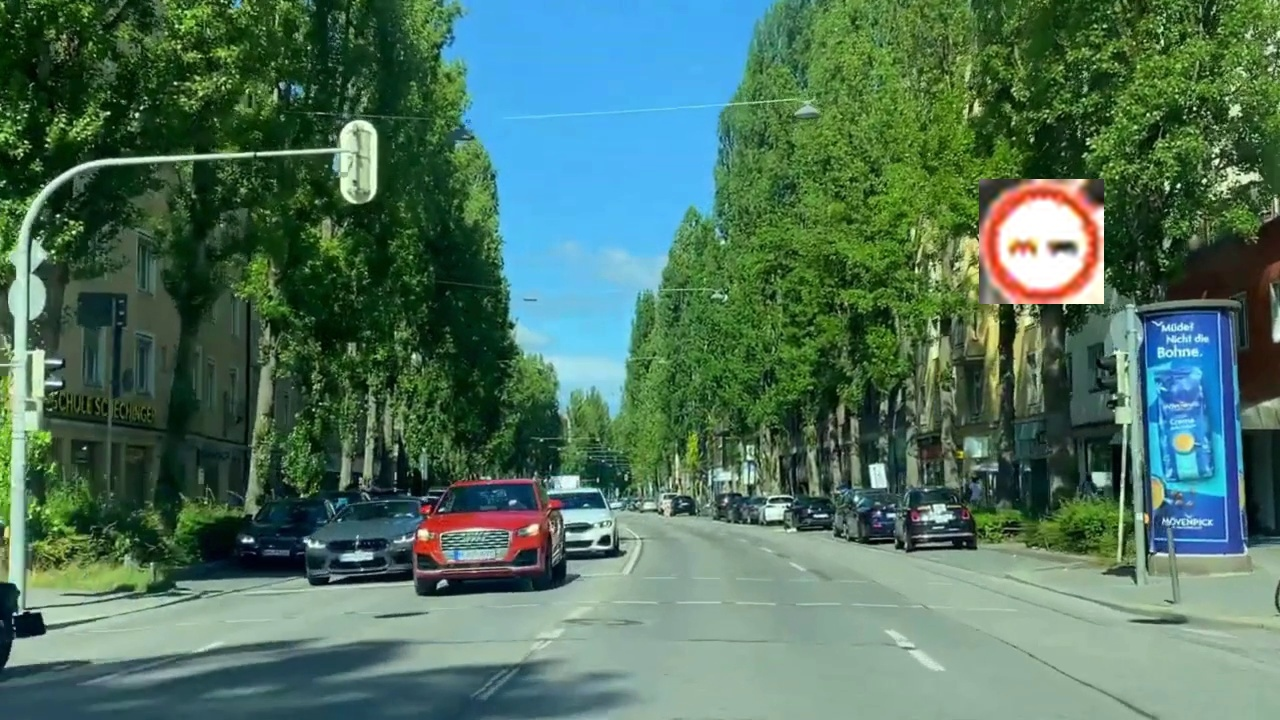No passing: (979, 179, 1104, 304)
